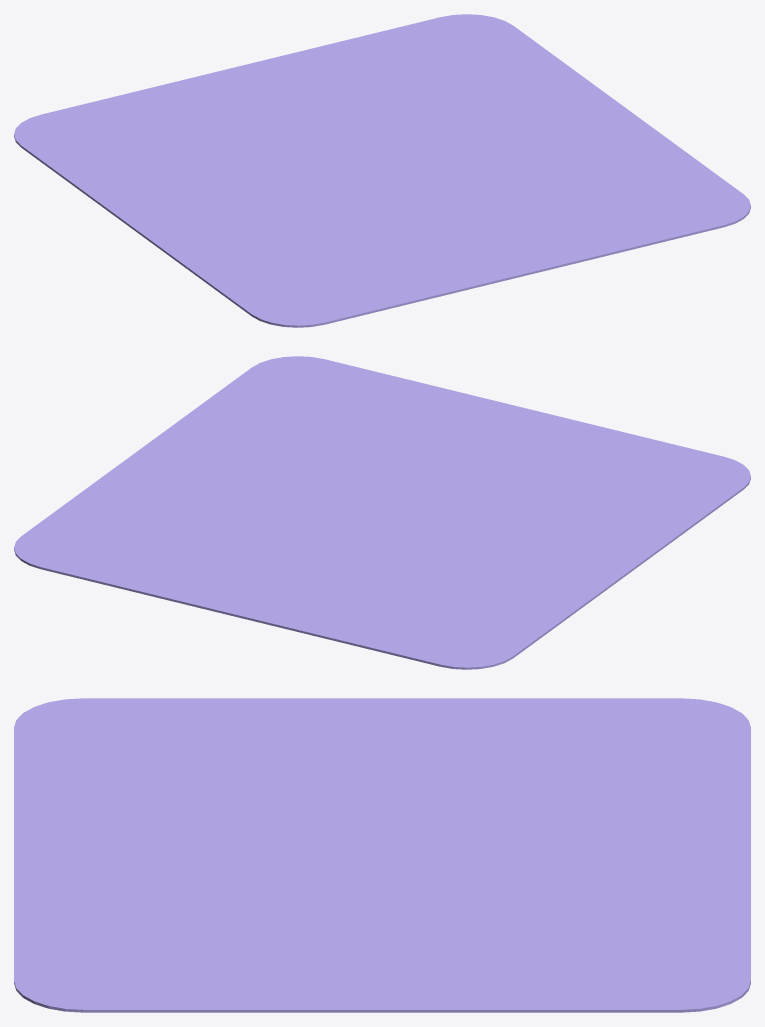
3 renders of one model, top to bottom at view 1: azimuth 30°, elevation 25°; view 2: azimuth 150°, elevation 25°; view 3: azimuth 270°, elevation 25°, orthographic. The views are drawn at different scales.
Visible parts, largest first — view 1: COM-02 Floor Surface; view 2: COM-02 Floor Surface; view 3: COM-02 Floor Surface.
Boxes of the visible parts, x1,y1,x2,y2 form: COM-02 Floor Surface: (14,14,750,327); COM-02 Floor Surface: (14,356,750,669); COM-02 Floor Surface: (14,698,750,1012).
Bounding box in the file's own units: 192 × 0.8 × 192.
